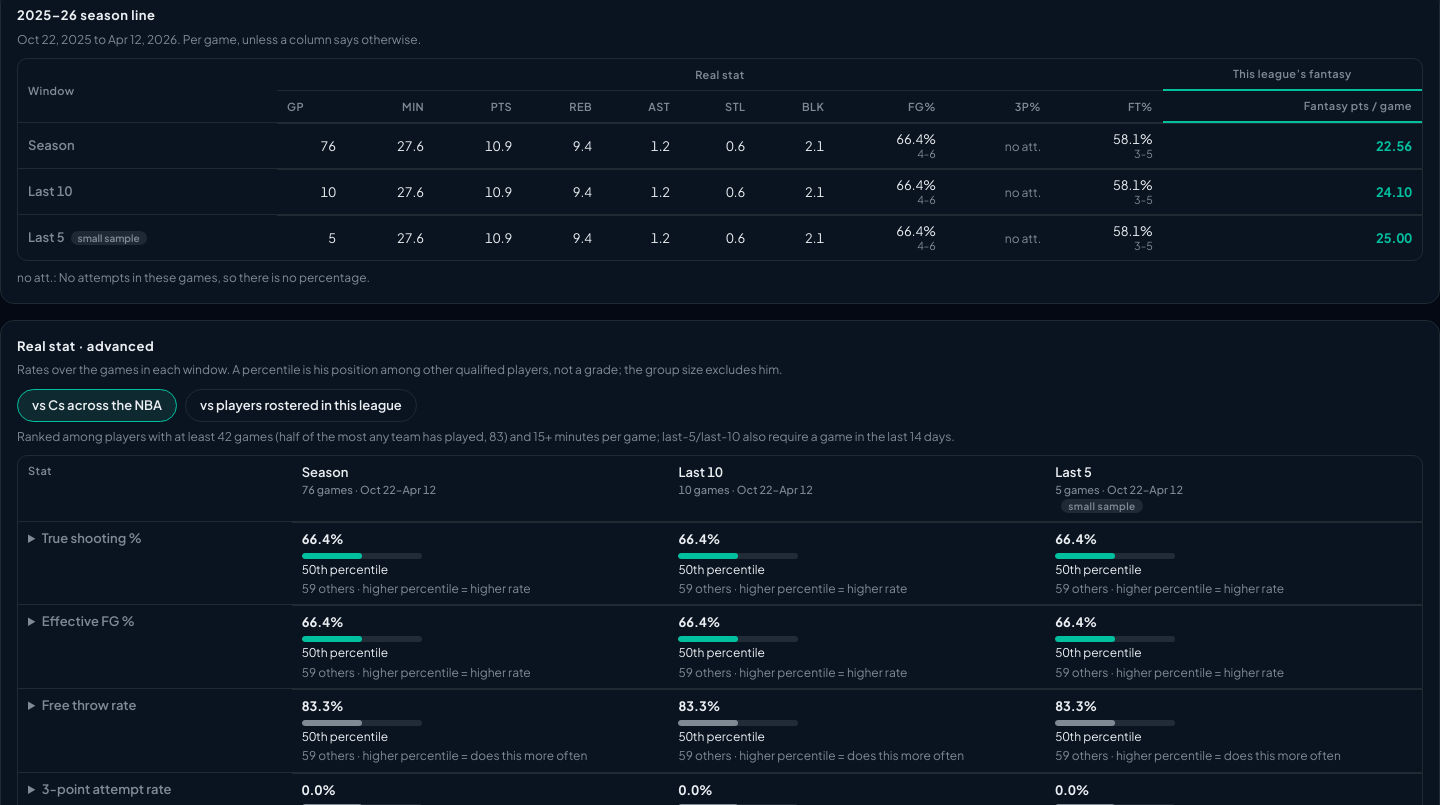
PlayerPage advanced view › dates the rostered group beside its toggle
The image size is (1440, 805).
(page scrolled)
Expected: the text "Players rostered in this league ·" is not shown
What coordinates should you click on to do the following:
click the button "vs players rostered in this league"
I would click on:
 (301, 405)
Its box is [185, 389, 417, 422].
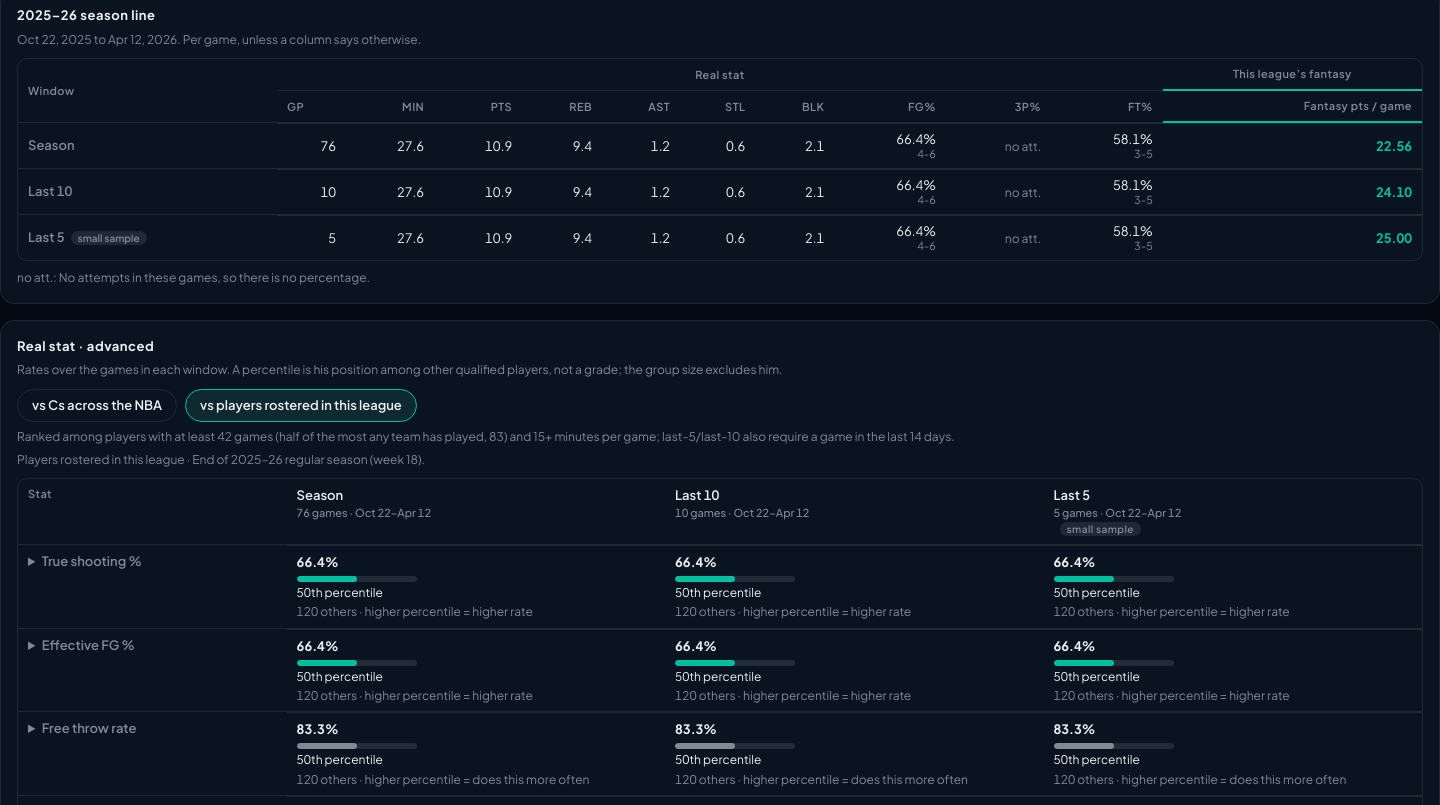
Result: the text "Players rostered in this league · End of 2025–26 regular season (week 18)." is shown at [17, 452, 425, 467]
